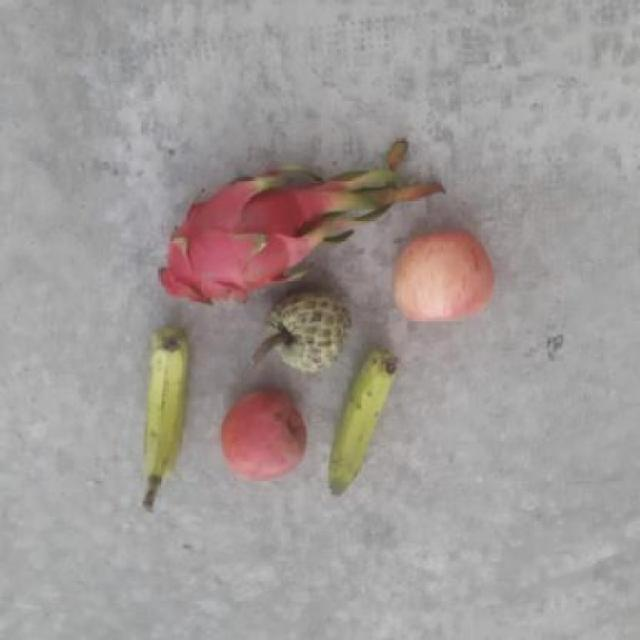apple: (392, 224, 495, 328), (215, 388, 310, 482)
banana: (320, 348, 403, 500), (128, 328, 199, 480)
dragon fruit: (157, 171, 325, 303)
sugar apple: (258, 287, 355, 376)
